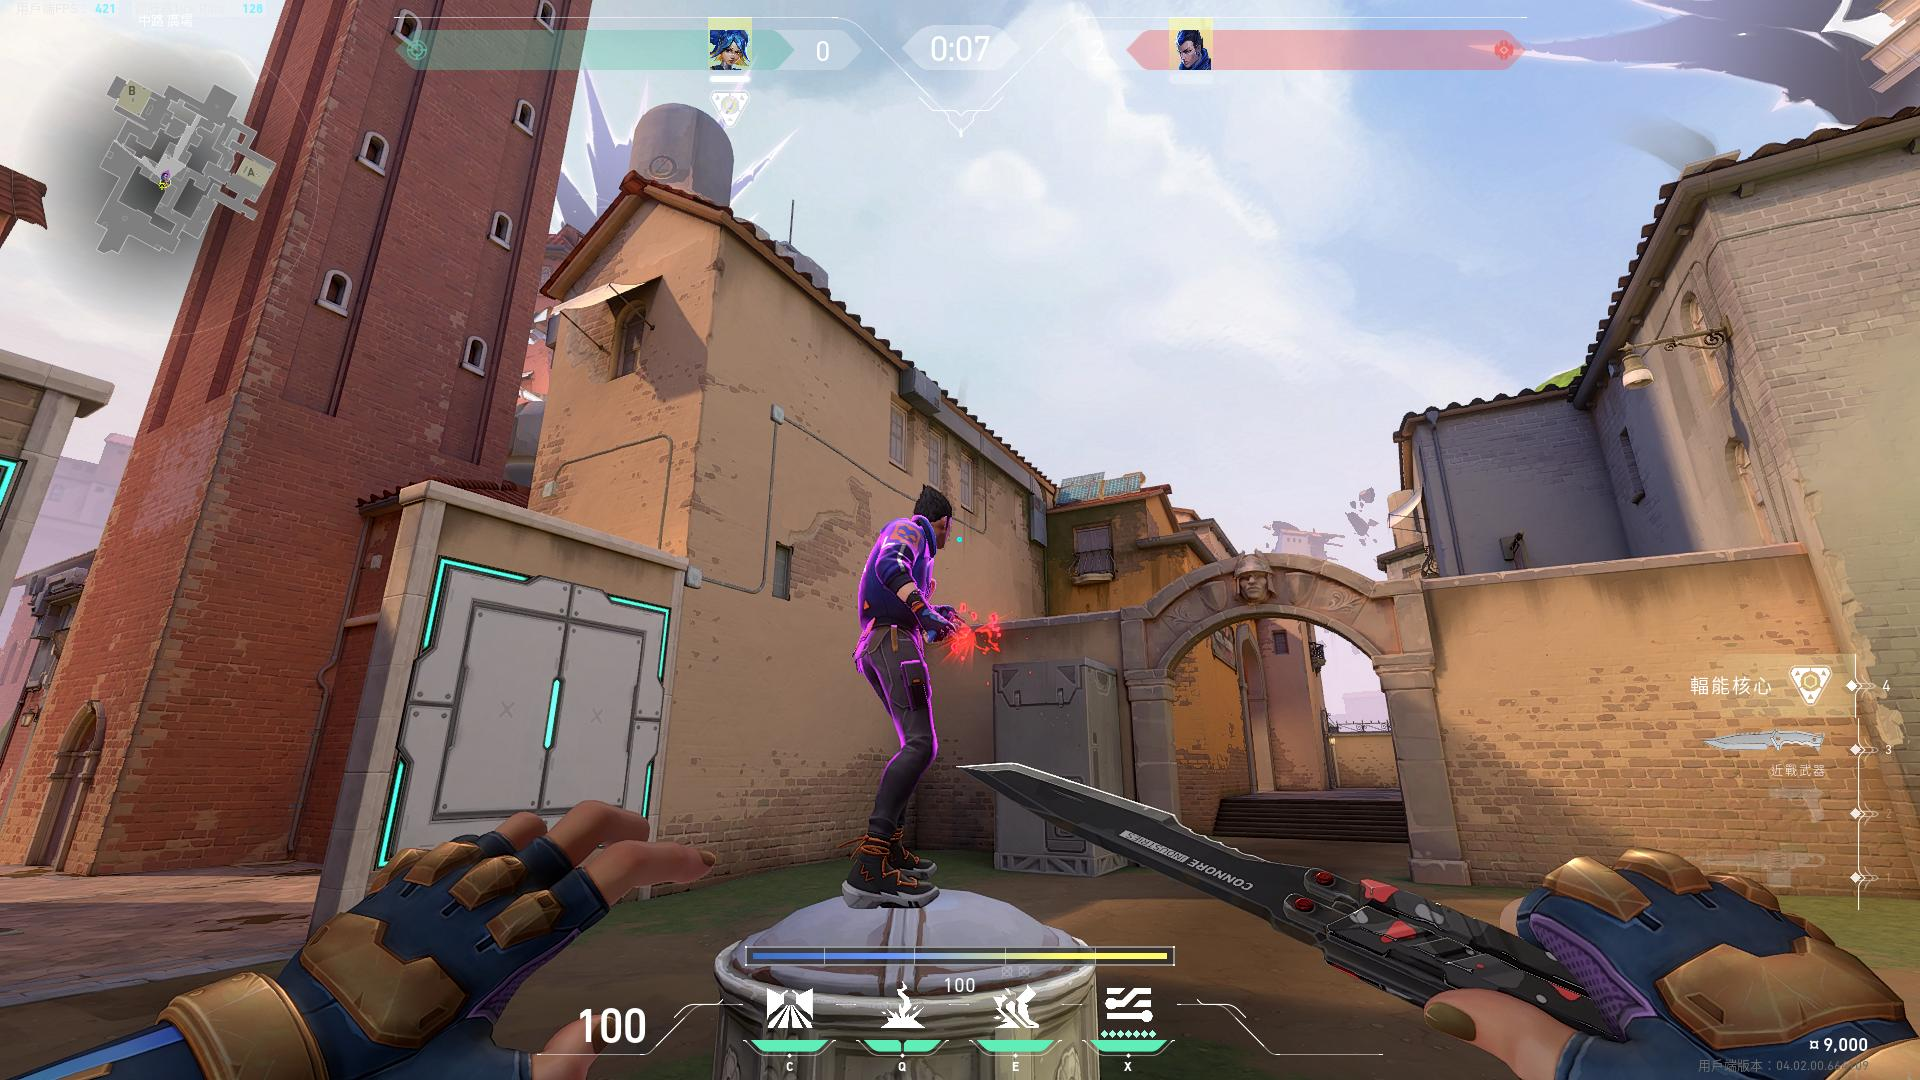enemyBody: (884, 537, 930, 603)
enemyHead: (909, 473, 964, 549)
